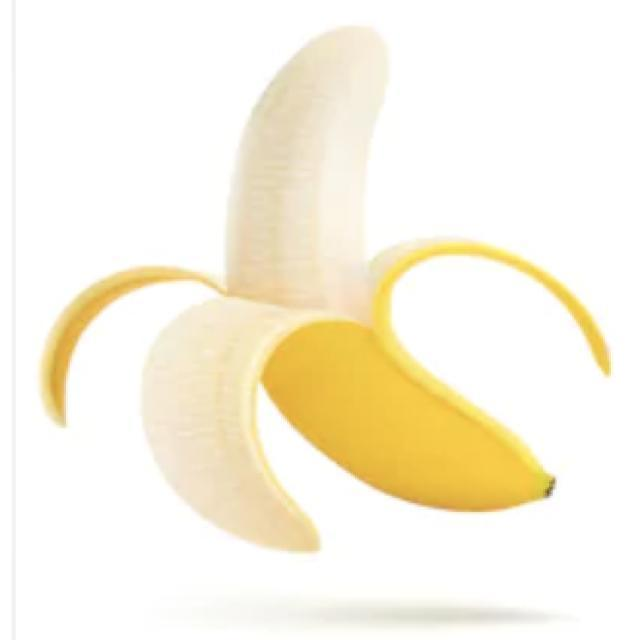Banana: (192, 24, 592, 528)
